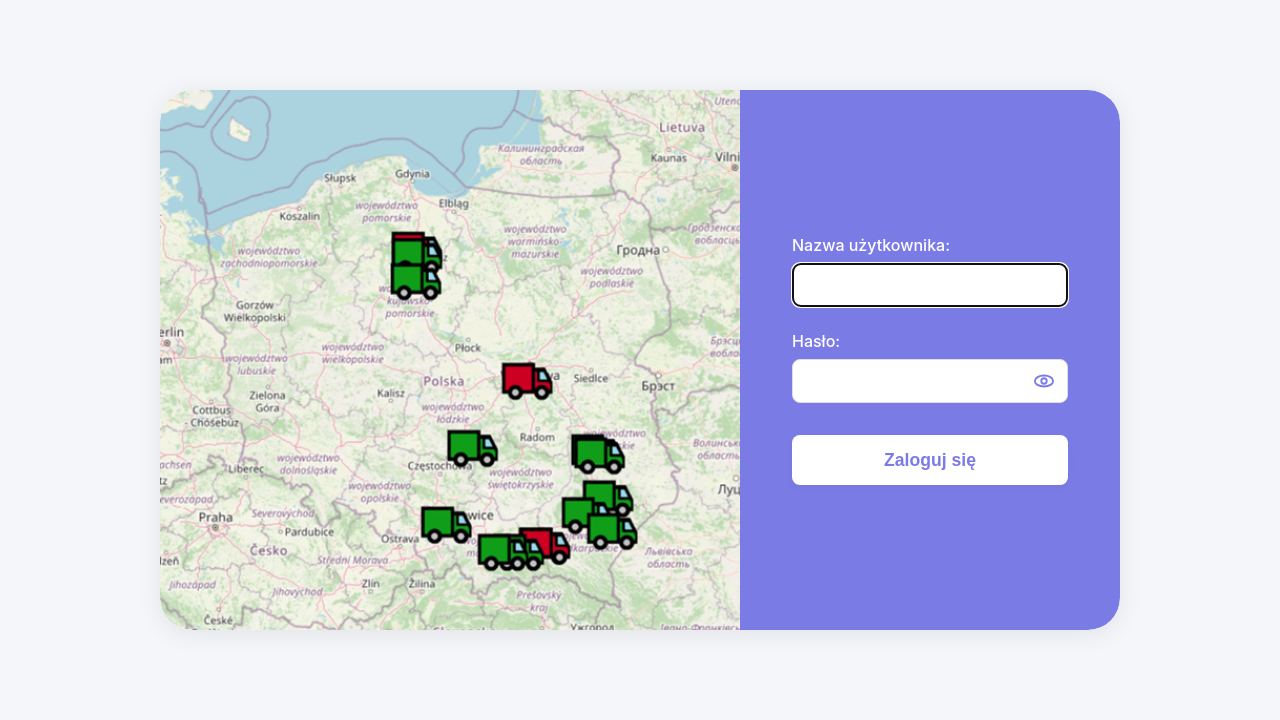
Test: Login Functionality › should show error with invalid credentials
The width and height of the screenshot is (1280, 720).
Type "wrong" into the field at (930, 285), box [792, 263, 1068, 307]
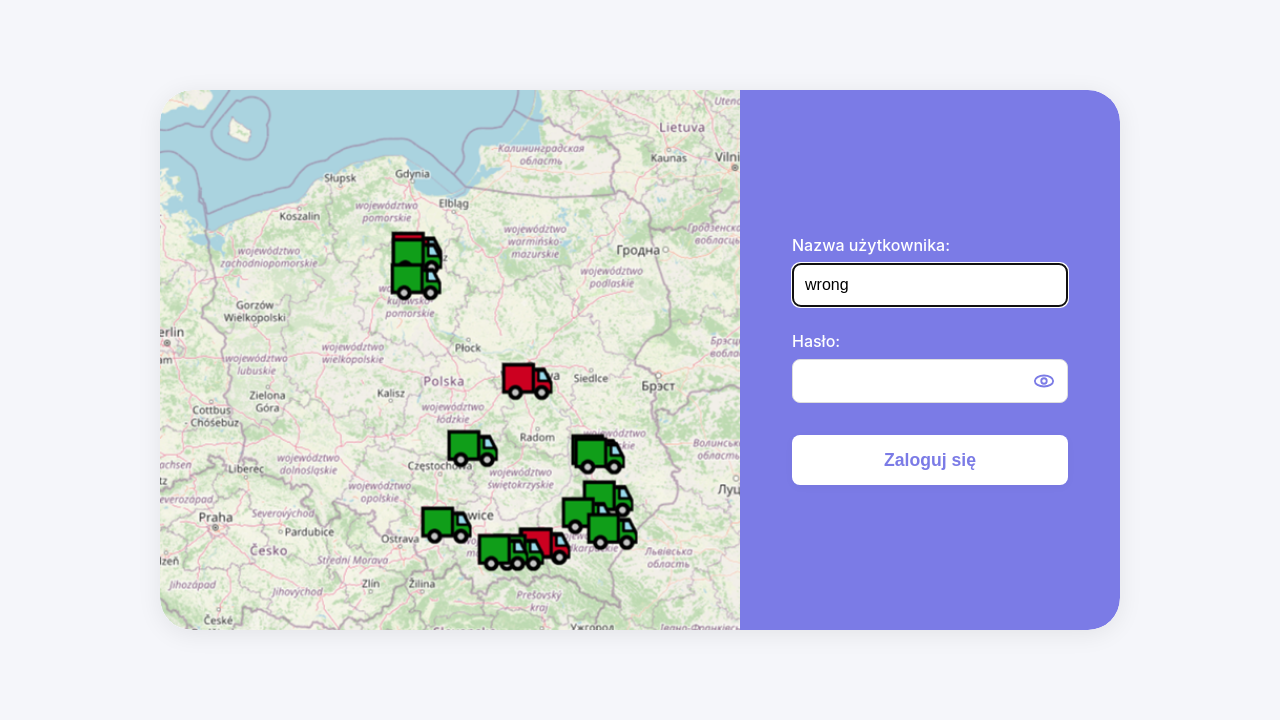
Type "wrong" into the password field at (930, 381), box [792, 359, 1068, 403]
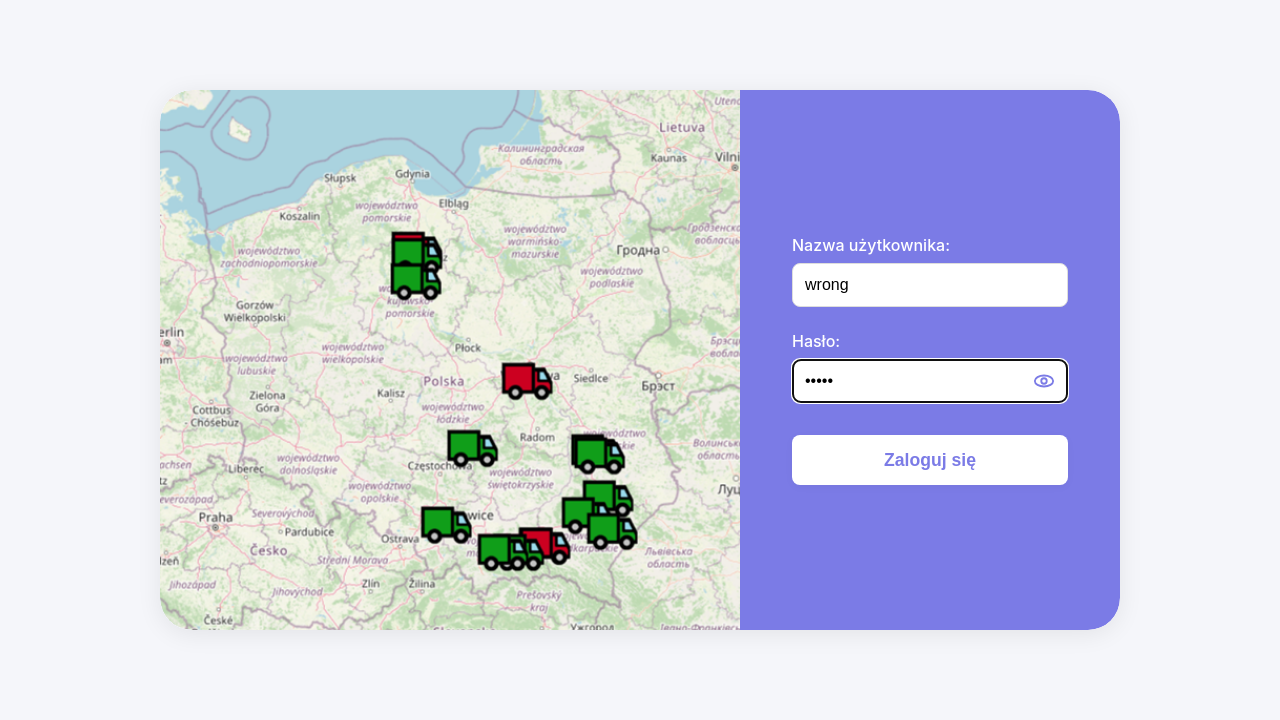
Click the submit button at (930, 460), box [792, 435, 1068, 485]
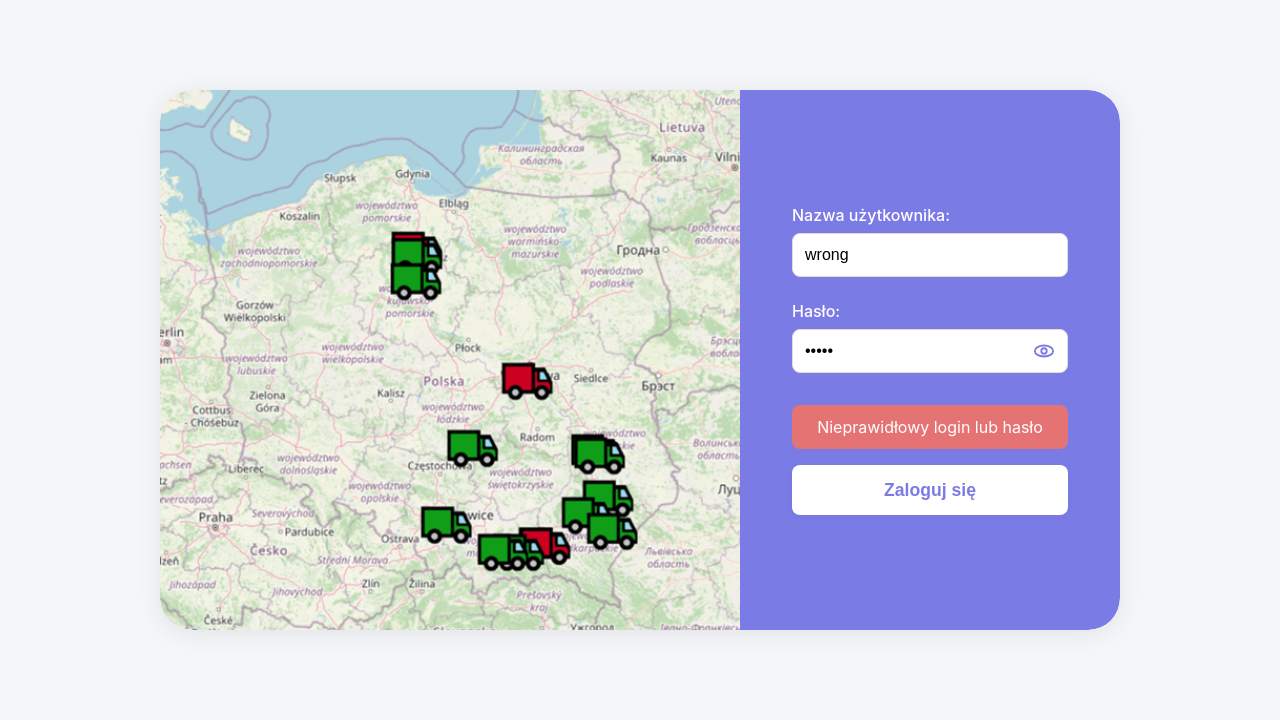
expect the text "Nieprawidłowy login lub hasło" is shown: met, box [792, 405, 1068, 449]
